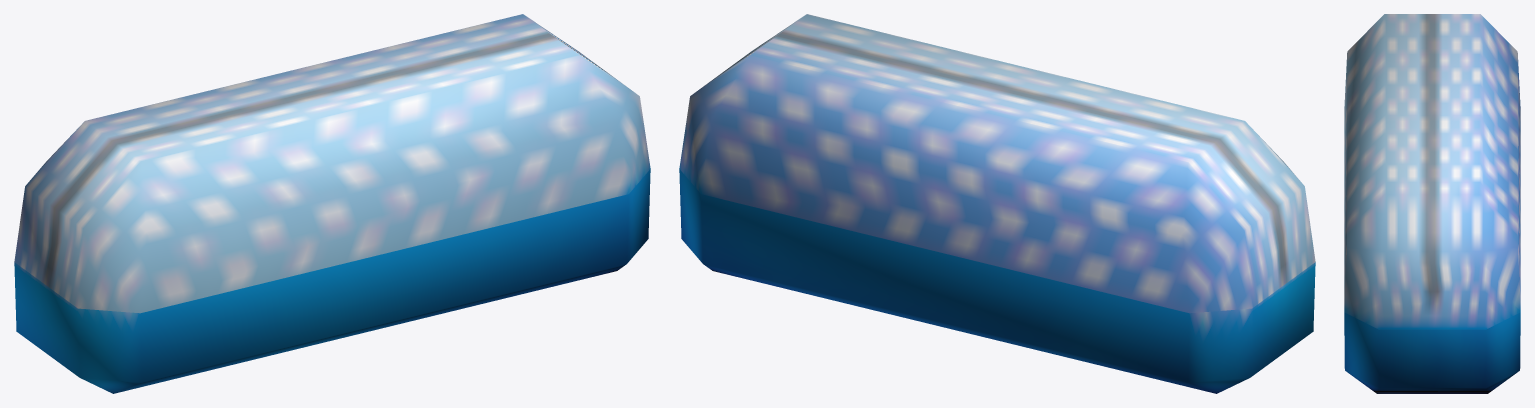
File: pencilCase_typeA2.FBX
3 renders of one model, left to right at view 1: azimuth 30°, elevation 25°; view 2: azimuth 150°, elevation 25°; view 3: azimuth 270°, elevation 25°, orthographic. The views are drawn at different scales.
Visible parts, largest first — view 1: PencilCaseA2; view 2: PencilCaseA2; view 3: PencilCaseA2.
Boxes of the visible parts, box(x1,y1,x2,y2) form: PencilCaseA2: box(14, 14, 650, 393); PencilCaseA2: box(679, 14, 1315, 393); PencilCaseA2: box(1344, 14, 1520, 393).
Bounding box in the file's own units: 19.85 × 7.3 × 6.28.
